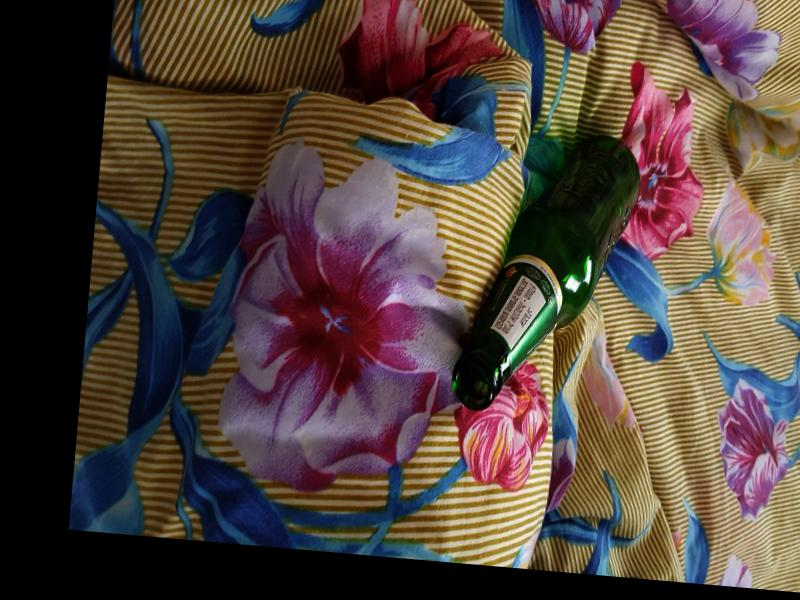Beer: (448, 127, 642, 421)
